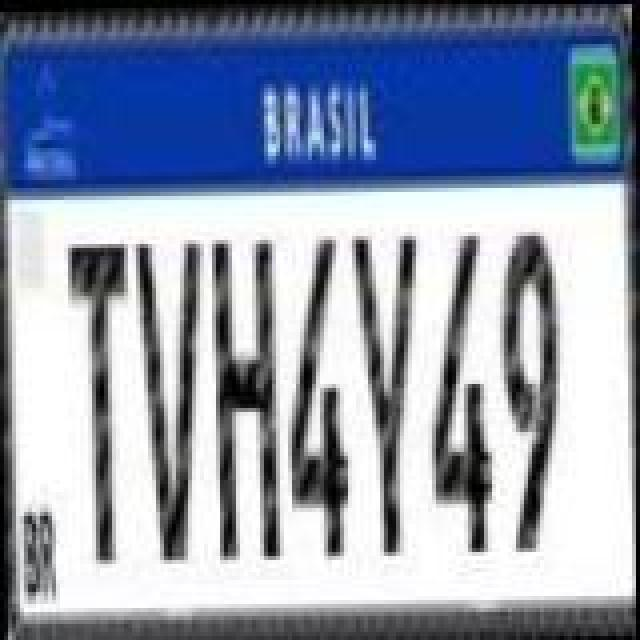4: (278, 230, 354, 558), (420, 228, 492, 552)
9: (490, 224, 566, 552)
H: (204, 226, 284, 566)
T: (62, 236, 138, 564)
V: (128, 228, 208, 568)
Y: (350, 228, 426, 556)
